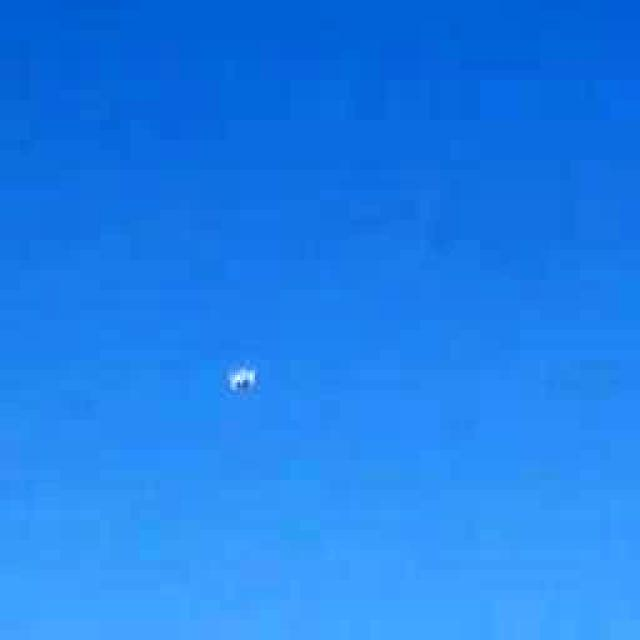bird: (192, 339, 288, 419)
